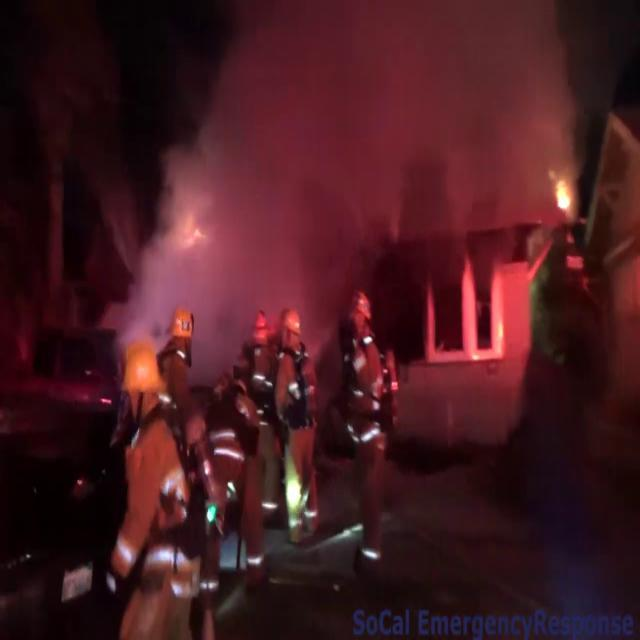Fire: (548, 169, 578, 225)
Smoke: (119, 1, 581, 295)
